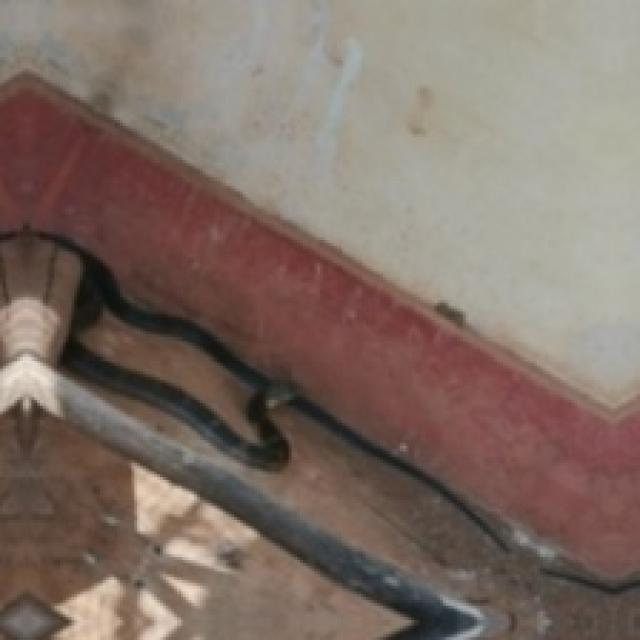king cobra: (0, 231, 514, 637)
